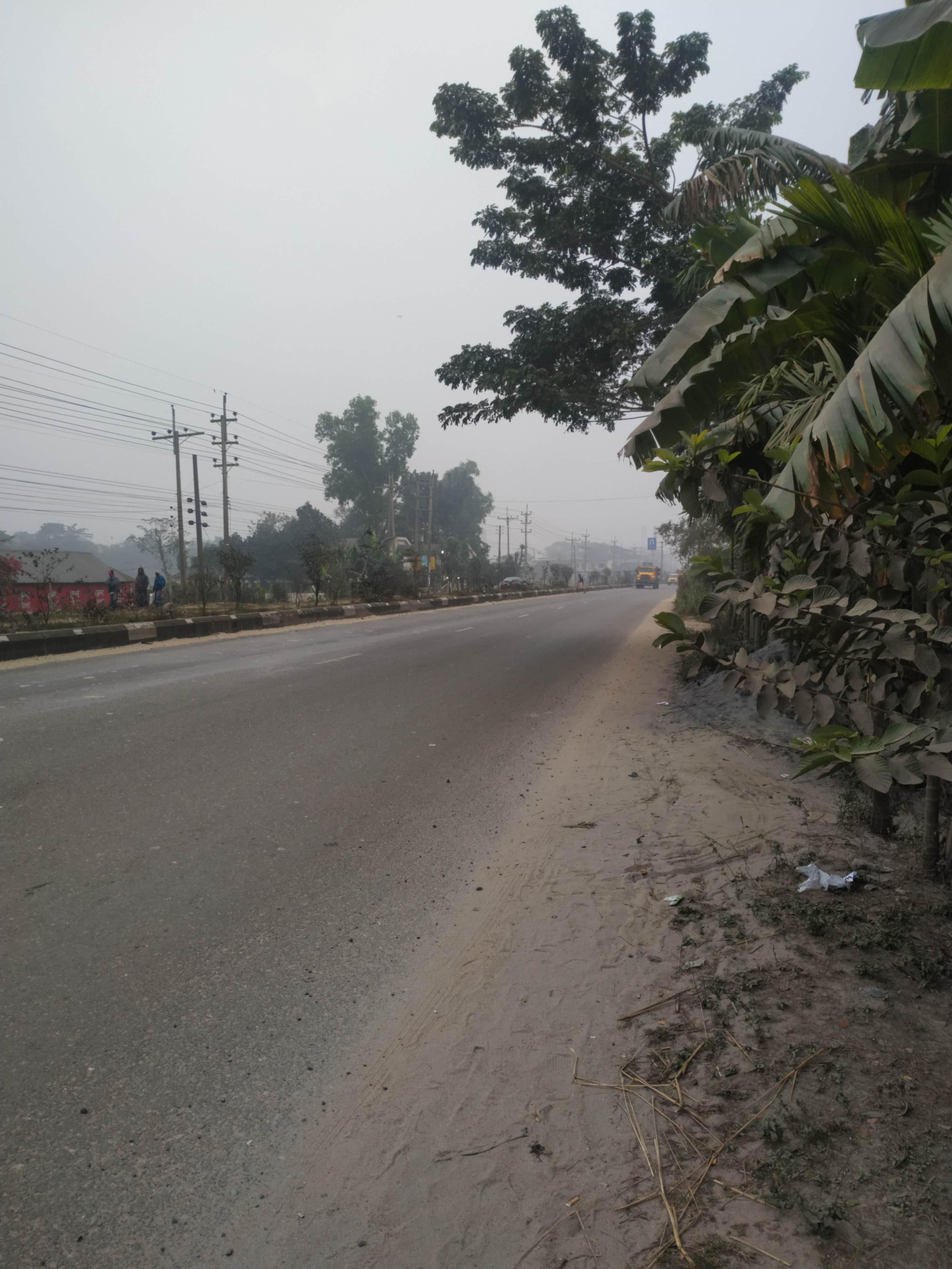Truck: (627, 556, 673, 611)
